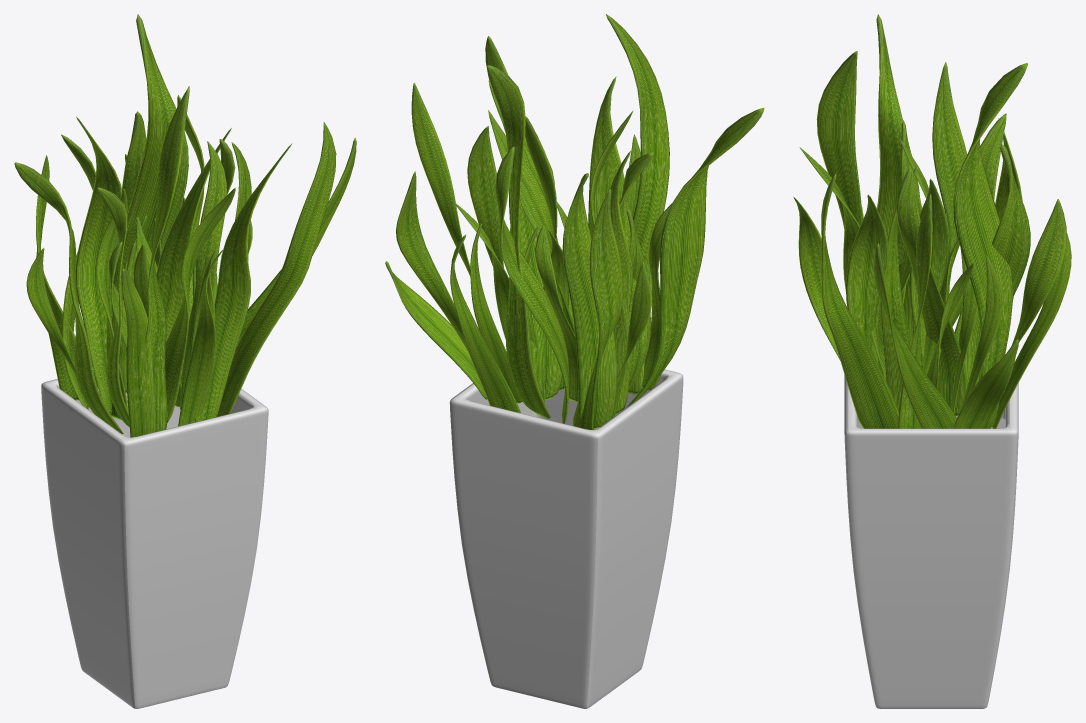
Rendered from pot_plant.fbx.
3 renders of one model, left to right at view 1: azimuth 30°, elevation 25°; view 2: azimuth 150°, elevation 25°; view 3: azimuth 270°, elevation 25°, orthographic. The views are drawn at different scales.
Visible parts, largest first — view 1: house_plant1:null_1, house_plant1:null_; view 2: house_plant1:null_1, house_plant1:null_; view 3: house_plant1:null_1, house_plant1:null_.
Part boxes in pixels (x1=…): house_plant1:null_1: x1=14, y1=14, x2=356, y2=437; house_plant1:null_: x1=41, y1=371, x2=268, y2=708; house_plant1:null_1: x1=385, y1=14, x2=764, y2=429; house_plant1:null_: x1=449, y1=369, x2=683, y2=708; house_plant1:null_1: x1=793, y1=14, x2=1071, y2=428; house_plant1:null_: x1=844, y1=361, x2=1018, y2=708.
Bounding box in the file's own units: 0.8398 × 1.46 × 0.5778.
Materials: 2 (1 with a texture image).
